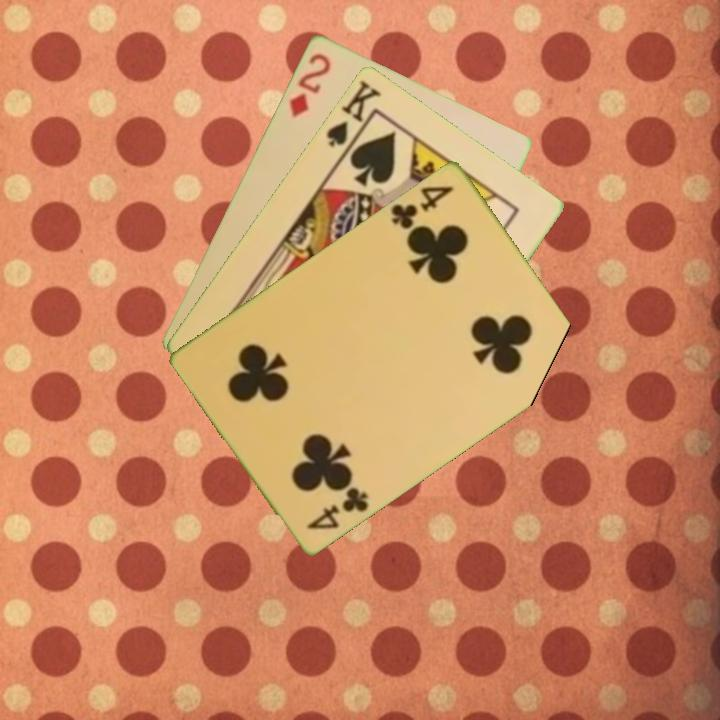2d: (285, 49, 334, 120)
4c: (387, 181, 457, 235), (303, 483, 372, 532)
Ks: (322, 76, 384, 150)
